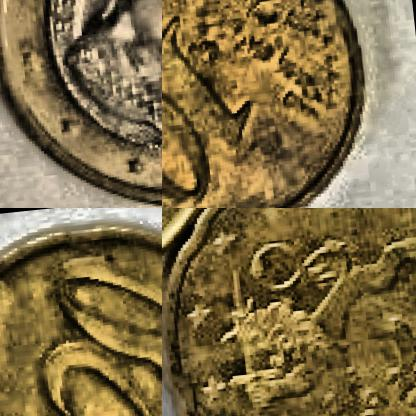coin: (162, 208, 415, 415), (162, 0, 381, 207), (0, 0, 161, 207), (0, 208, 161, 415)
